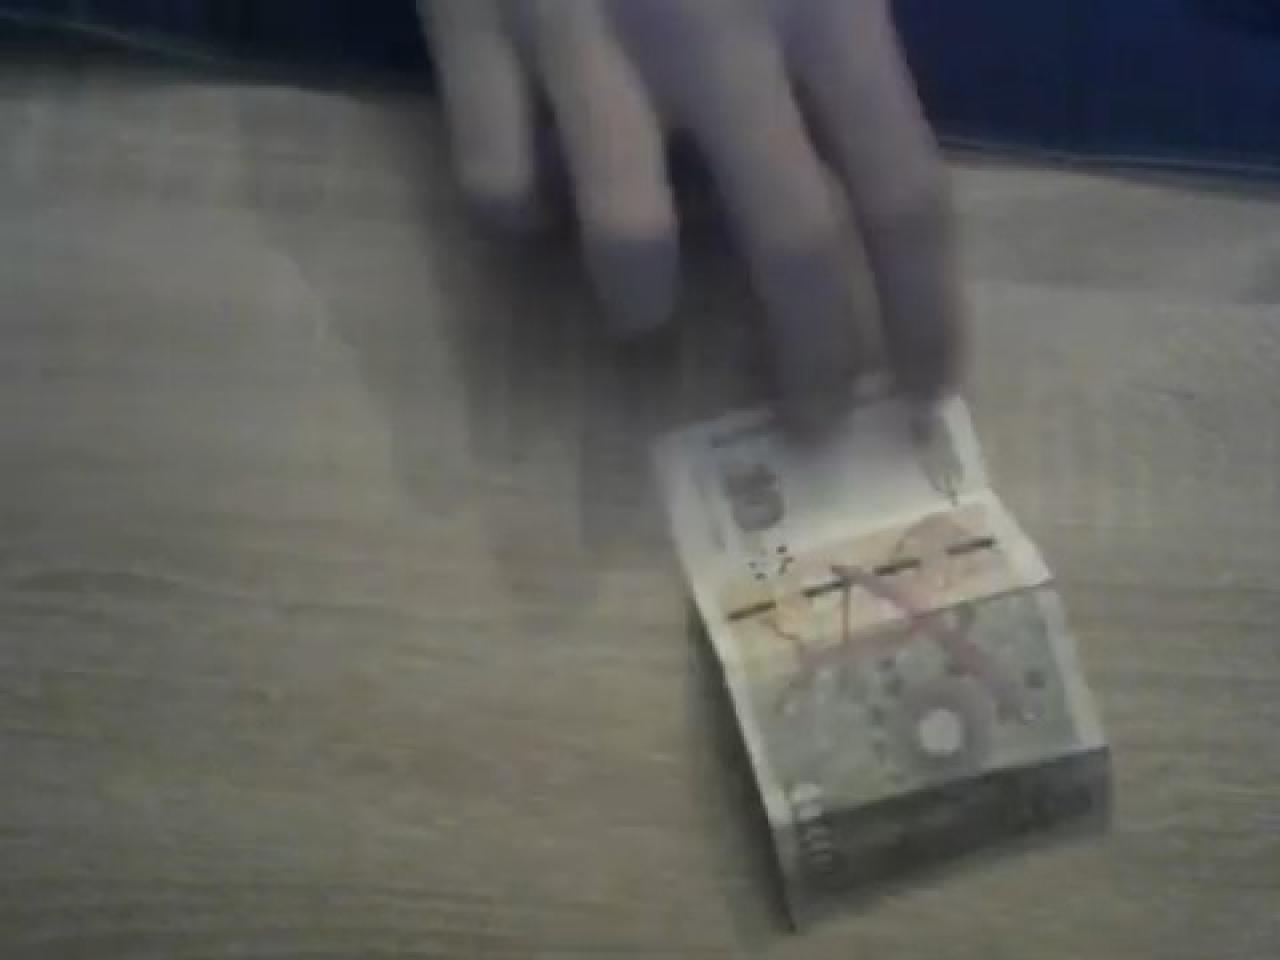10leva: (653, 376, 1115, 934)
